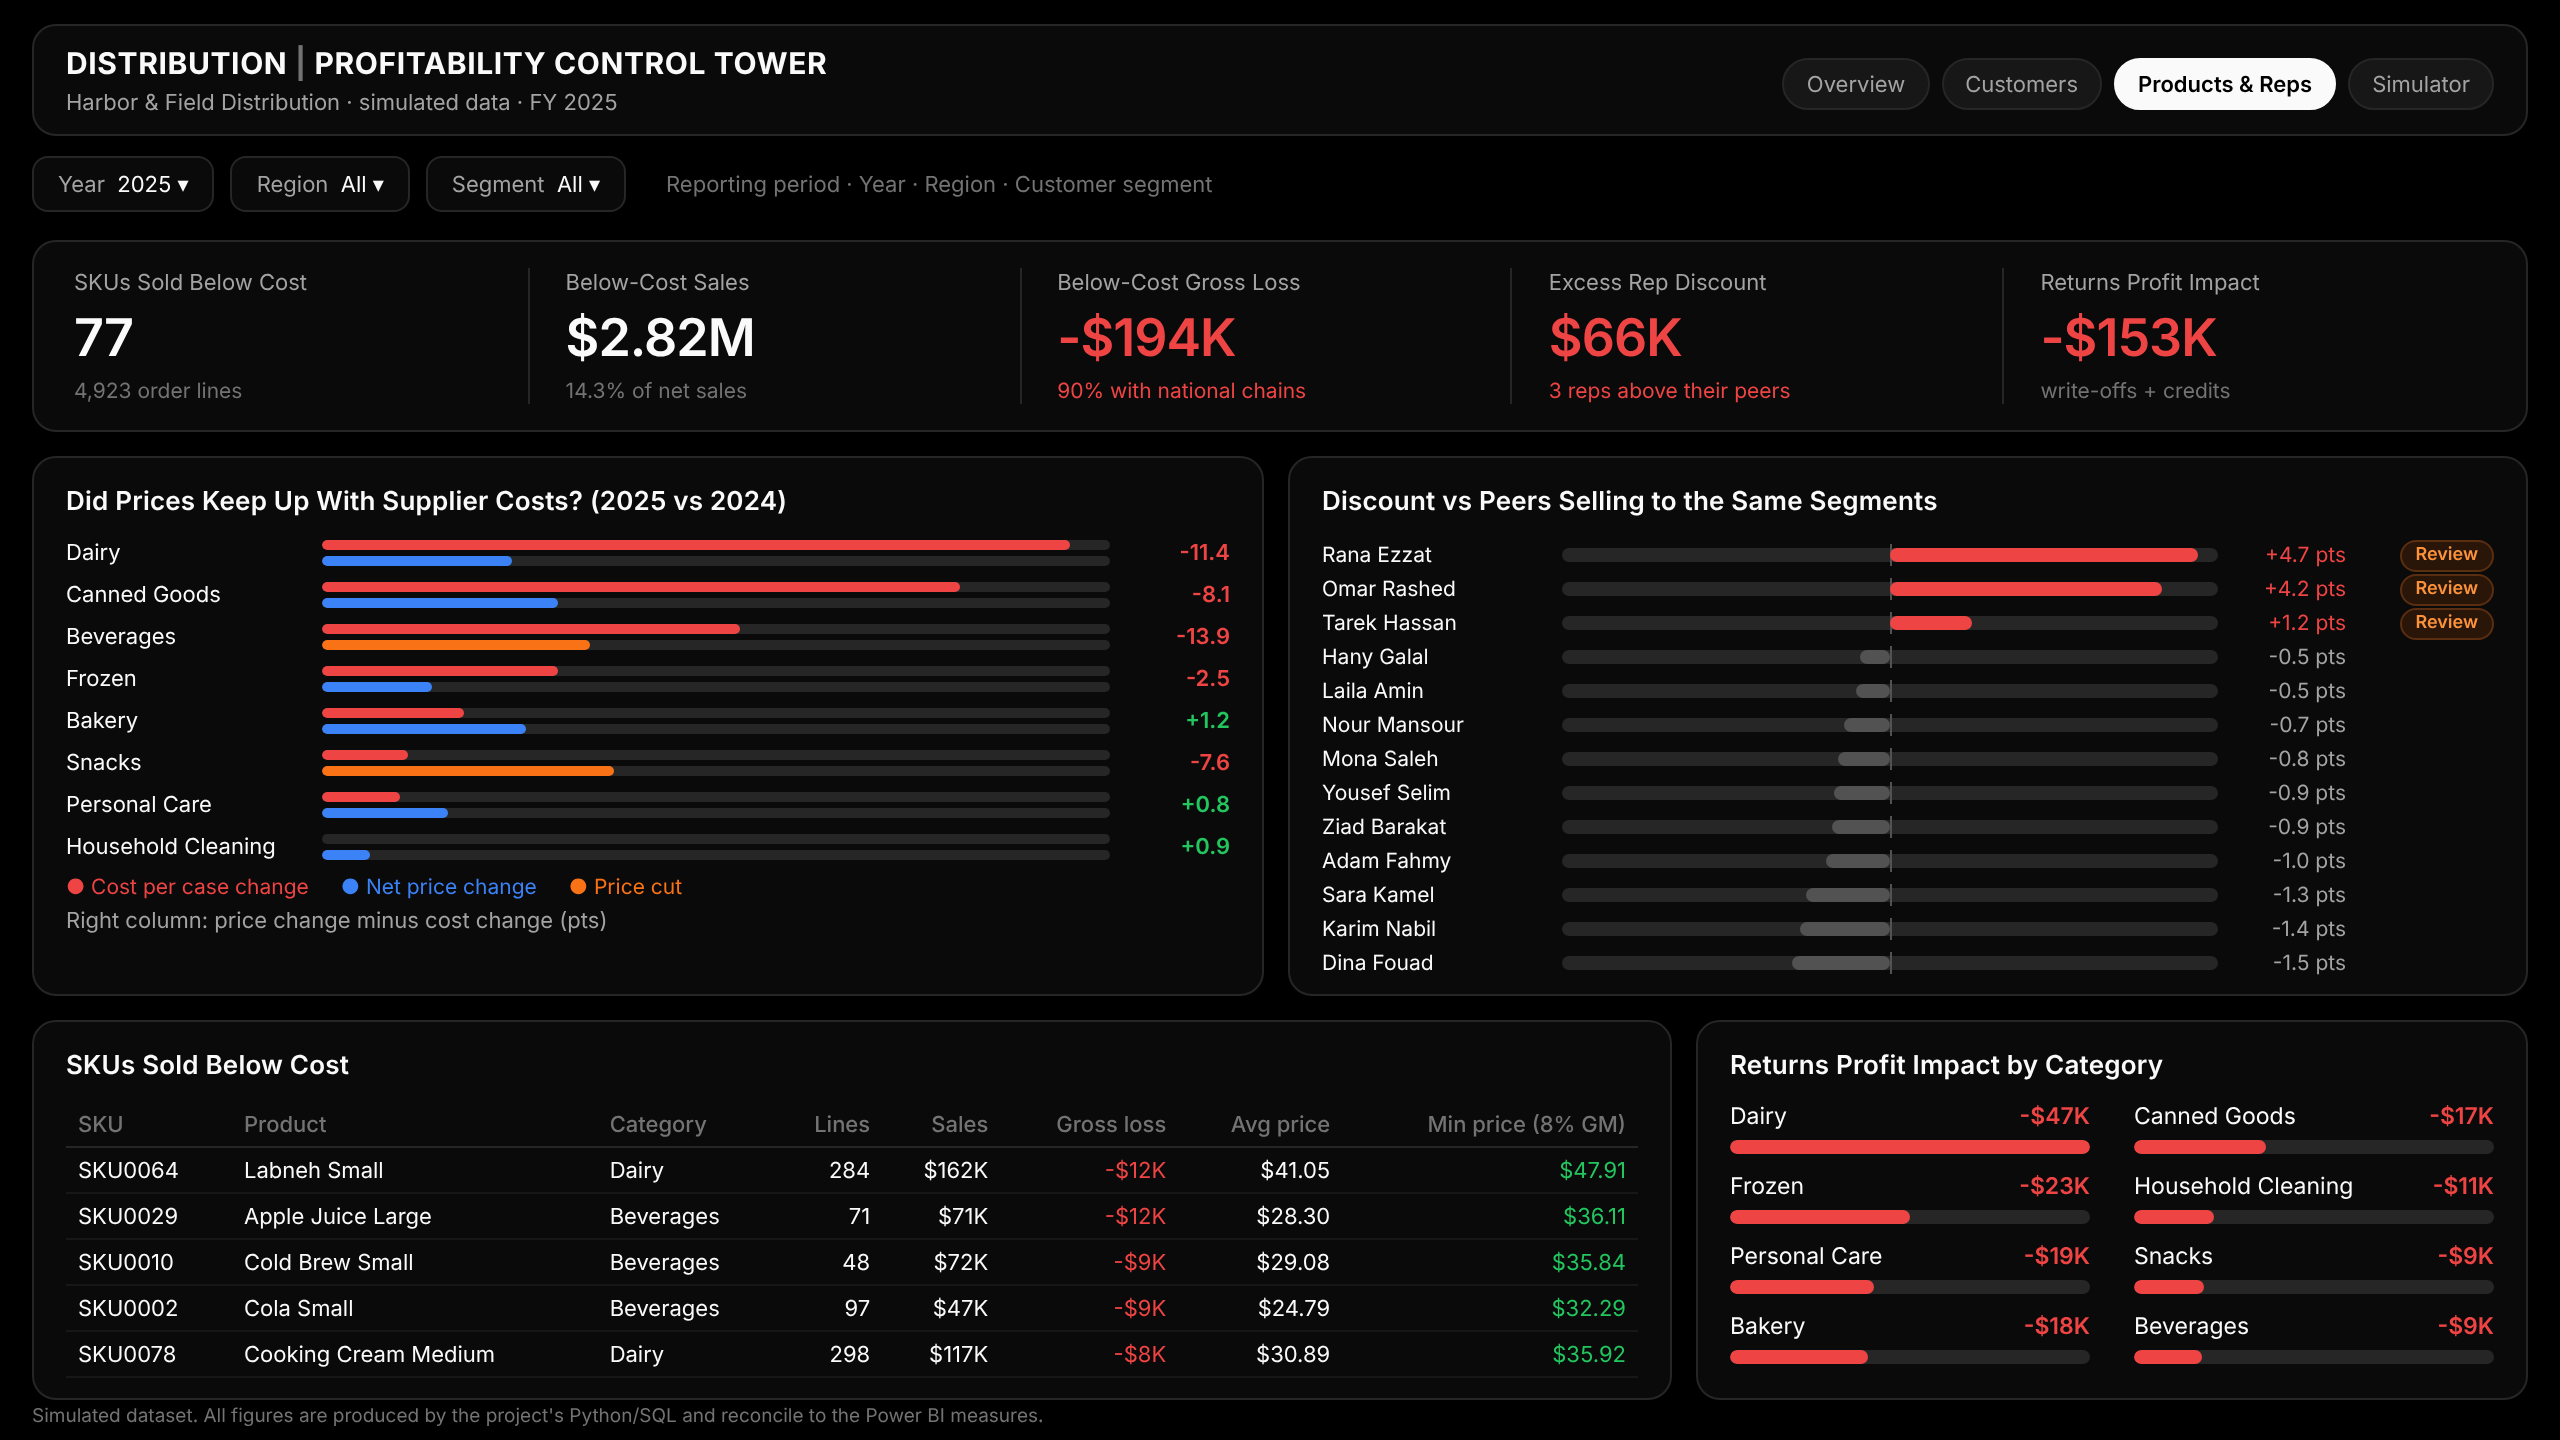

The dashboard page shown, as its layout file describes it:
{"tool":"powerbi","page":{"name":"Products & Reps","canvas":[1280,720],"ordinal":2},"visuals":[{"type":"shape","box":[15.8,5.7,1248.3,91.8],"z":0,"group":"g1"},{"type":"shape","title":"Pocket Margin by Segment","box":[14.3,103.3,1252.6,120.5],"z":0},{"type":"cardVisual","fields":{"Data":["_Measures.SKUs Sold Below Cost","_Measures.Below-Cost Sales","_Measures.Below-Cost Gross Loss","_Measures.Excess Discount (Generous Reps)","_Measures.Returns Profit Impact"]},"box":[21.5,124.8,1248,98.8],"z":1000},{"type":"group","id":"g1","title":"Group 1","box":[15.8,5.7,1248.3,91.8],"z":2000},{"type":"textbox","box":[27.2,19.8,520.8,30.1],"z":2000,"group":"g1"},{"type":"cardVisual","fields":{"Data":["_Measures.Report Subtitle"]},"box":[64.5,57.4,520,24],"z":3000,"group":"g1"},{"type":"shape","title":"Did Prices Keep Up With Supplier Costs?","box":[16,228,616,270],"z":3000},{"type":"slicer","fields":{"Values":["dim_date.date.Variation.Date Hierarchy.Year"]},"box":[885.3,61.7,110.5,31.6],"z":4000,"group":"g1"},{"type":"tableEx","title":"Did Prices Keep Up With Supplier Costs?","fields":{"Values":["dim_product.category","_Measures.SVG Cost vs Price","_Measures.Price minus Cost pts","_Measures.Cost Change %"]},"box":[15.8,235.3,624.1,235.3],"z":4000},{"type":"pageNavigator","box":[587.6,16.3,667.2,37.3],"z":5000,"group":"g1"},{"type":"textbox","box":[31.6,466.3,575.4,23],"z":5000},{"type":"slicer","fields":{"Values":["dim_customer.region"]},"box":[995.8,61.7,119.1,31.6],"z":6000,"group":"g1"},{"type":"shape","title":"Discount vs Peers Selling to the Same Segments","box":[642,228.1,620,270],"z":6000},{"type":"slicer","fields":{"Values":["dim_customer.segment"]},"box":[1114.9,61.7,140,32],"z":7000,"group":"g1"},{"type":"tableEx","title":"Discount vs Peers Selling to the Same Segments","fields":{"Values":["dim_rep.rep_name","_Measures.SVG Rep Bar","_Measures.Excess Discount pts","_Measures.SVG Rep Pill"]},"box":[652.9,234.9,620,262.5],"z":7000},{"type":"textbox","box":[592.6,71.7,292.6,22.2],"z":8000,"group":"g1"},{"type":"tableEx","title":"SKUs Sold Below Cost","fields":{"Values":["dim_product.sku","dim_product.product_name","dim_product.category","_Measures.Below-Cost Lines","_Measures.Below-Cost Sales","_Measures.Below-Cost Gross Loss","_Measures.Avg Net Price","_Measures.Min Price (8% GM)"]},"box":[15.8,503.6,688.7,212.4],"z":8000},{"type":"shape","title":"Returns Profit Impact by Category","box":[713.1,503.6,548.1,212.4],"z":9000},{"type":"tableEx","fields":{"Values":["_Measures.SVG Returns Bar","dim_product.category","_Measures.Returns Rank"]},"box":[714,504,288,212],"z":10000},{"type":"tableEx","fields":{"Values":["_Measures.SVG Returns Bar","dim_product.category","_Measures.Returns Rank"]},"box":[982.9,503.4,287,216.6],"z":11000}]}

Visuals, with their boxes in screenshot pixels (x1, y1, x2, y2), scaled from the page's 1280x720 canvas onto the 2560x1440 screenshot:
shape: (left=32, top=11, right=2528, bottom=195)
"Pocket Margin by Segment" shape: (left=29, top=207, right=2534, bottom=448)
cardVisual - _Measures.SKUs Sold Below Cost x _Measures.Below-Cost Sales: (left=43, top=250, right=2539, bottom=447)
"Group 1" group: (left=32, top=11, right=2528, bottom=195)
textbox: (left=54, top=40, right=1096, bottom=100)
cardVisual - _Measures.Report Subtitle: (left=129, top=115, right=1169, bottom=163)
"Did Prices Keep Up With Supplier Costs?" shape: (left=32, top=456, right=1264, bottom=996)
slicer - dim_date.date.Variation.Date Hierarchy.Year: (left=1771, top=123, right=1992, bottom=187)
"Did Prices Keep Up With Supplier Costs?" tableEx: (left=32, top=471, right=1280, bottom=941)
pageNavigator: (left=1175, top=33, right=2510, bottom=107)
textbox: (left=63, top=933, right=1214, bottom=979)
slicer - dim_customer.region: (left=1992, top=123, right=2230, bottom=187)
"Discount vs Peers Selling to the Same Segments" shape: (left=1284, top=456, right=2524, bottom=996)
slicer - dim_customer.segment: (left=2230, top=123, right=2510, bottom=187)
"Discount vs Peers Selling to the Same Segments" tableEx: (left=1306, top=470, right=2546, bottom=995)
textbox: (left=1185, top=143, right=1770, bottom=188)
"SKUs Sold Below Cost" tableEx: (left=32, top=1007, right=1409, bottom=1432)
"Returns Profit Impact by Category" shape: (left=1426, top=1007, right=2522, bottom=1432)
tableEx - _Measures.SVG Returns Bar x dim_product.category: (left=1428, top=1008, right=2004, bottom=1432)
tableEx - _Measures.SVG Returns Bar x dim_product.category: (left=1966, top=1007, right=2540, bottom=1439)
